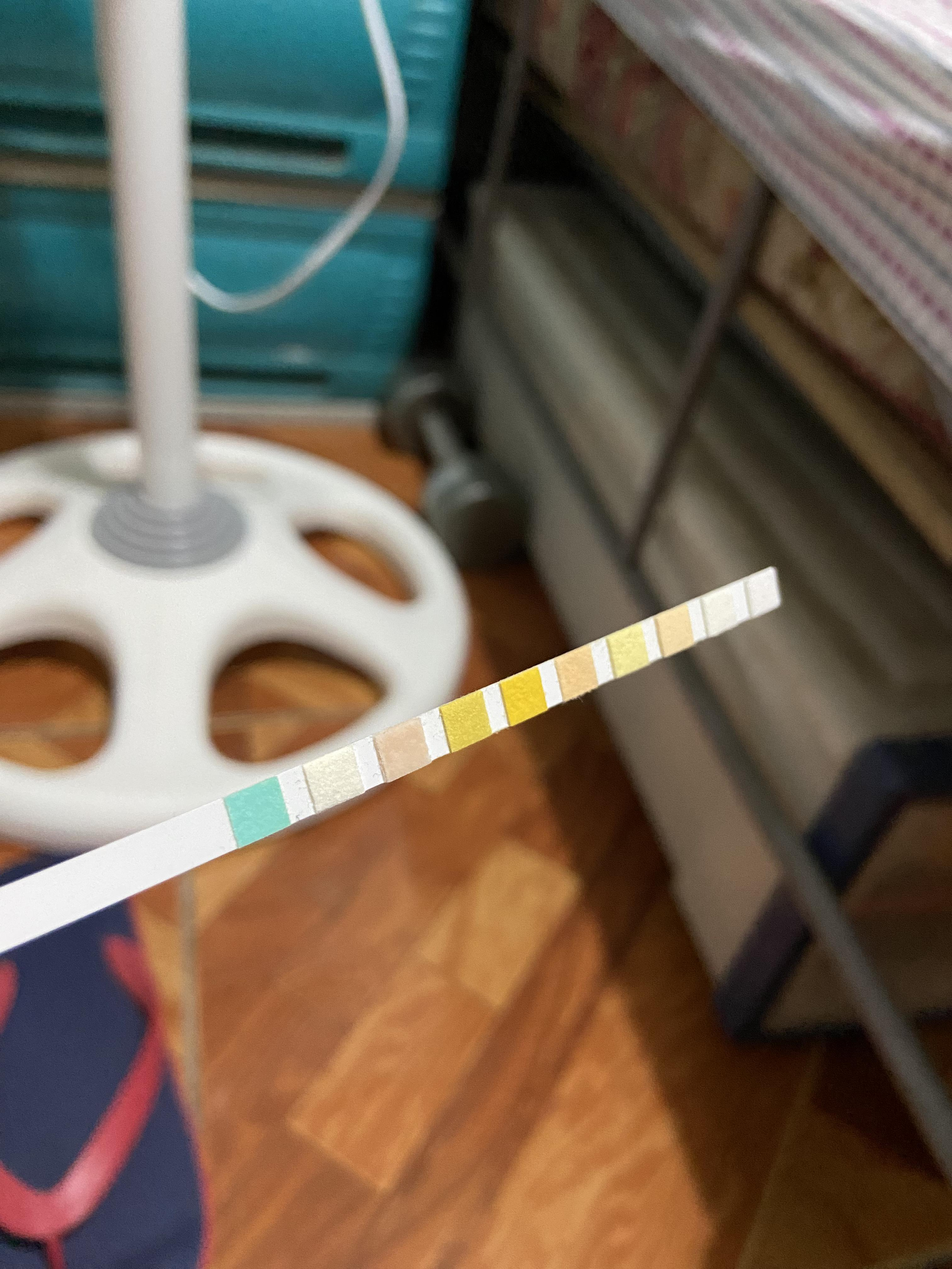Bilirubin: (313, 758, 355, 797)
Blood: (509, 678, 540, 713)
Glucose: (235, 792, 281, 829)
Ketone: (387, 732, 422, 767)
Leukocytes: (752, 577, 776, 608)
Nitrite: (709, 594, 733, 626)
Protein: (616, 633, 642, 668)
SpGravity: (452, 702, 484, 740)
Urobilinogen: (664, 613, 688, 647)
pH: (563, 654, 590, 692)
strip: (0, 566, 779, 956)
